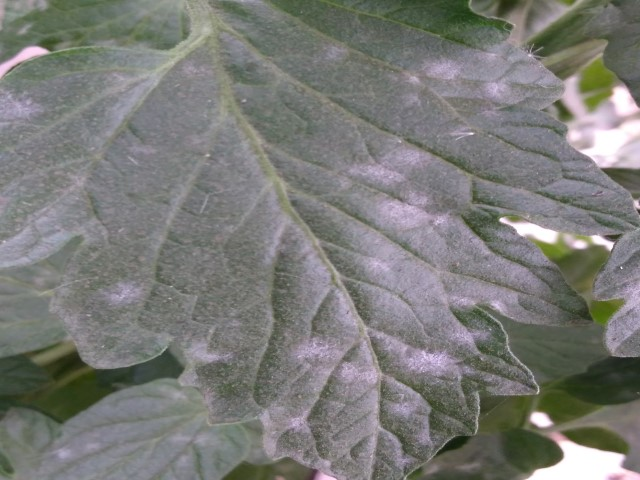oidio: (293, 337, 371, 389), (353, 186, 434, 236), (345, 148, 434, 185), (409, 342, 457, 381), (5, 88, 47, 127), (420, 49, 460, 88), (111, 274, 146, 306), (324, 44, 348, 62)
